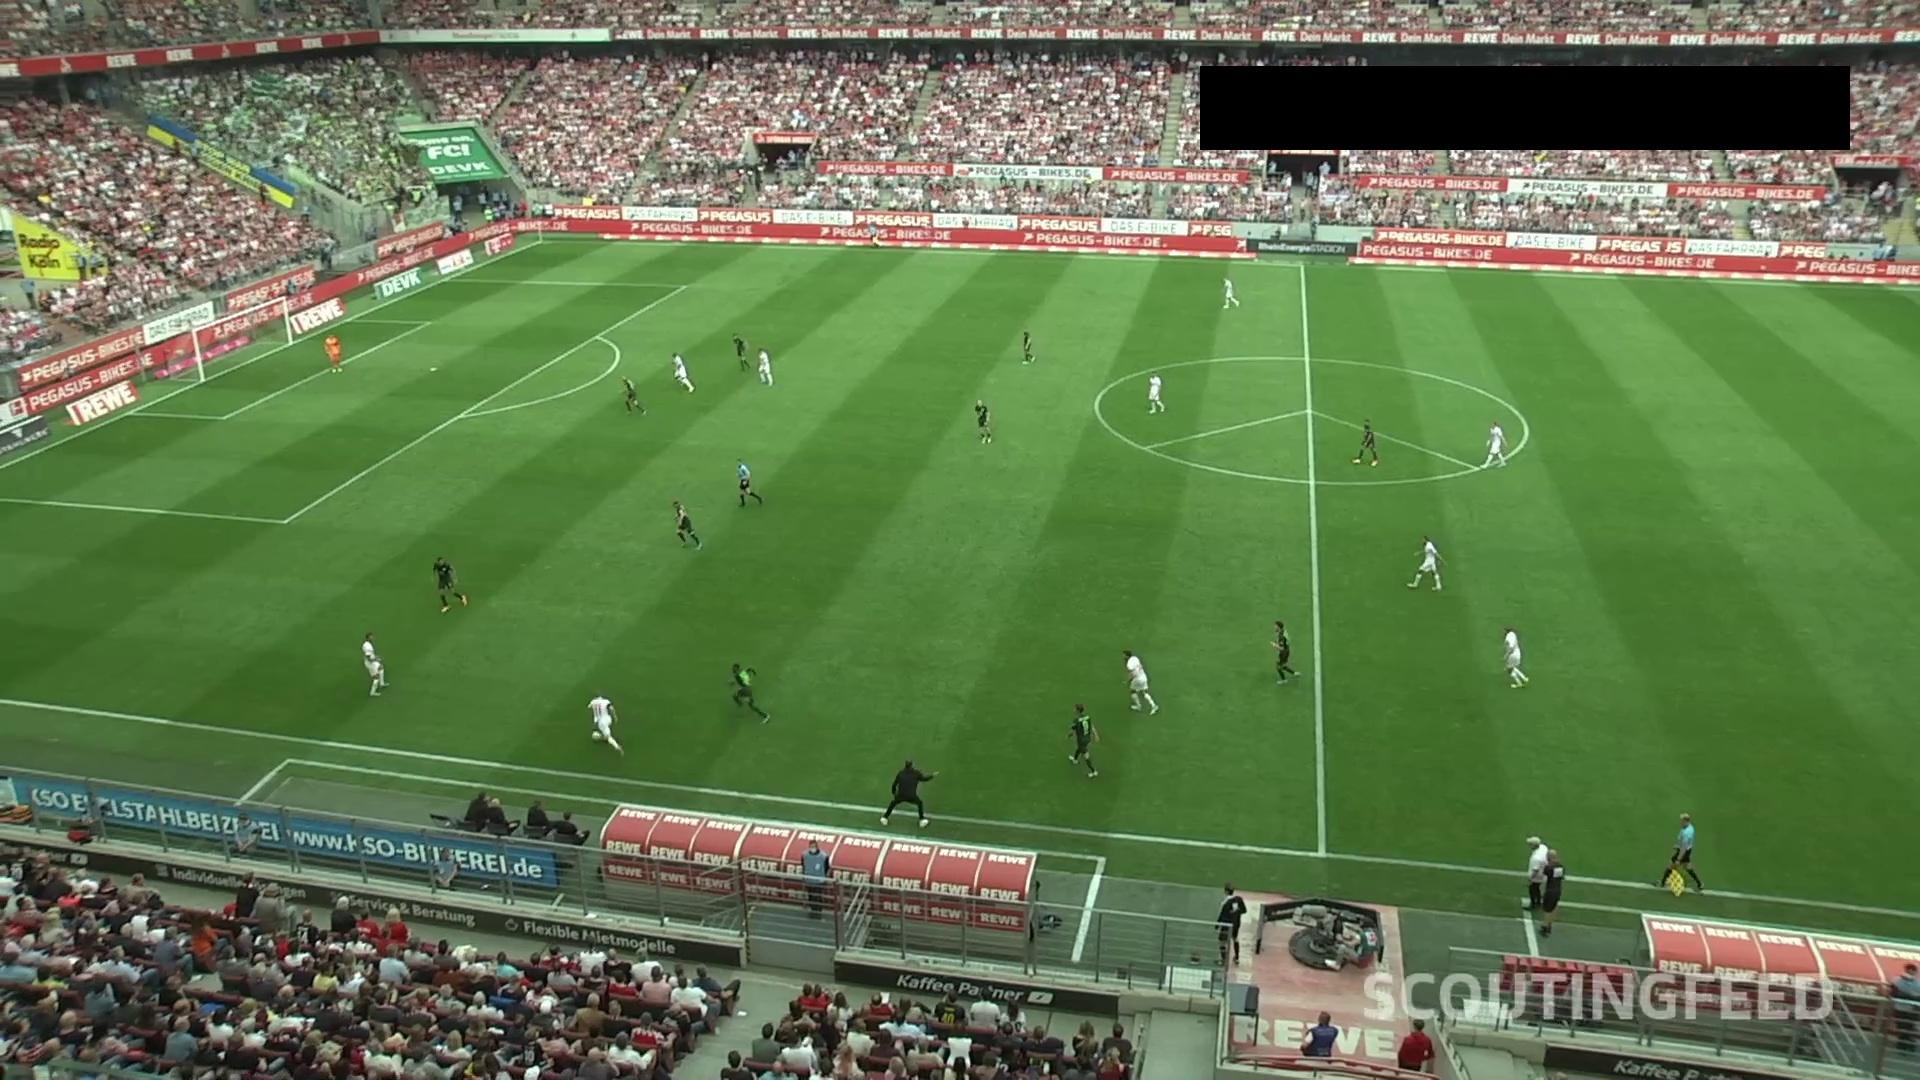Location-of-ball: (583, 721, 613, 752)
